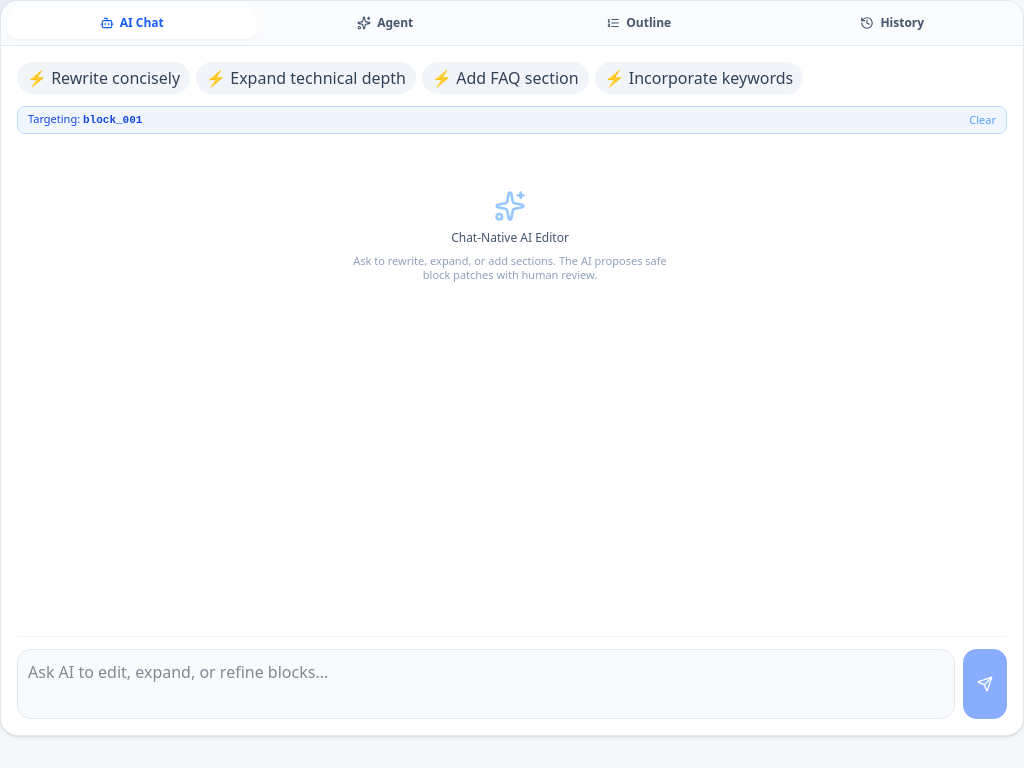
Test case: Phase 5: Chat-Native AI Content Editor › renders human-readable diff text when proposal contains structured operations and text object
The width and height of the screenshot is (1024, 768).
Type "Optimize block" into the text box with test id "chat-input" at (486, 684), box [17, 649, 955, 719]
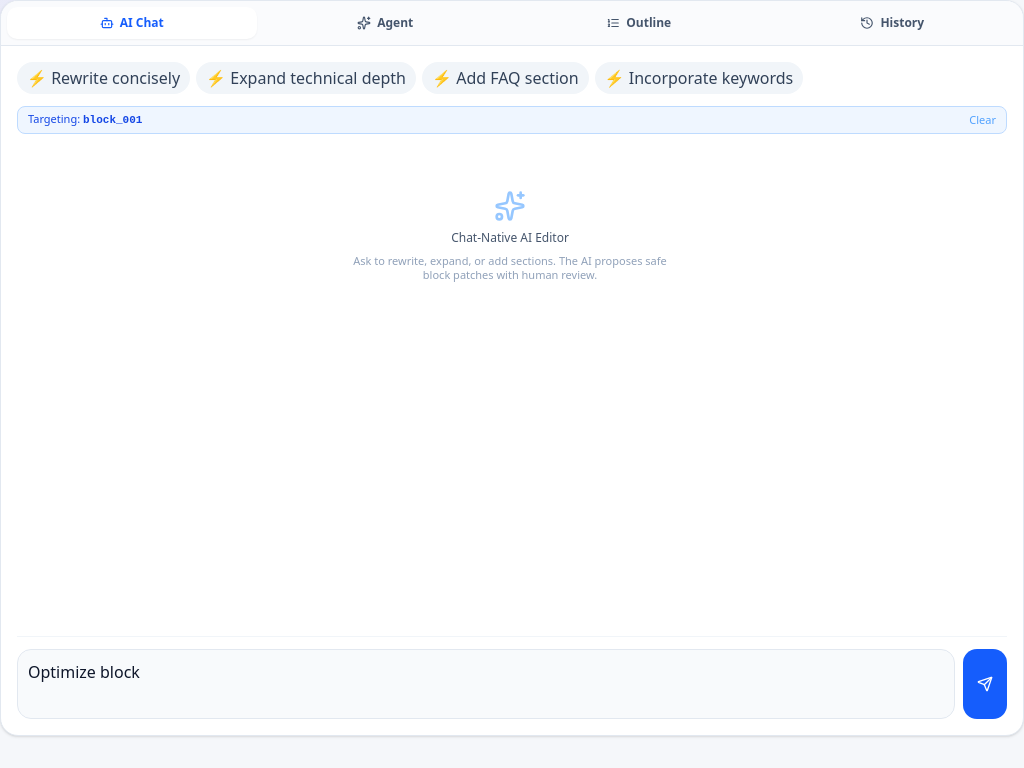
Click the button with test id "send-chat-btn" at (985, 684), box [963, 649, 1007, 719]
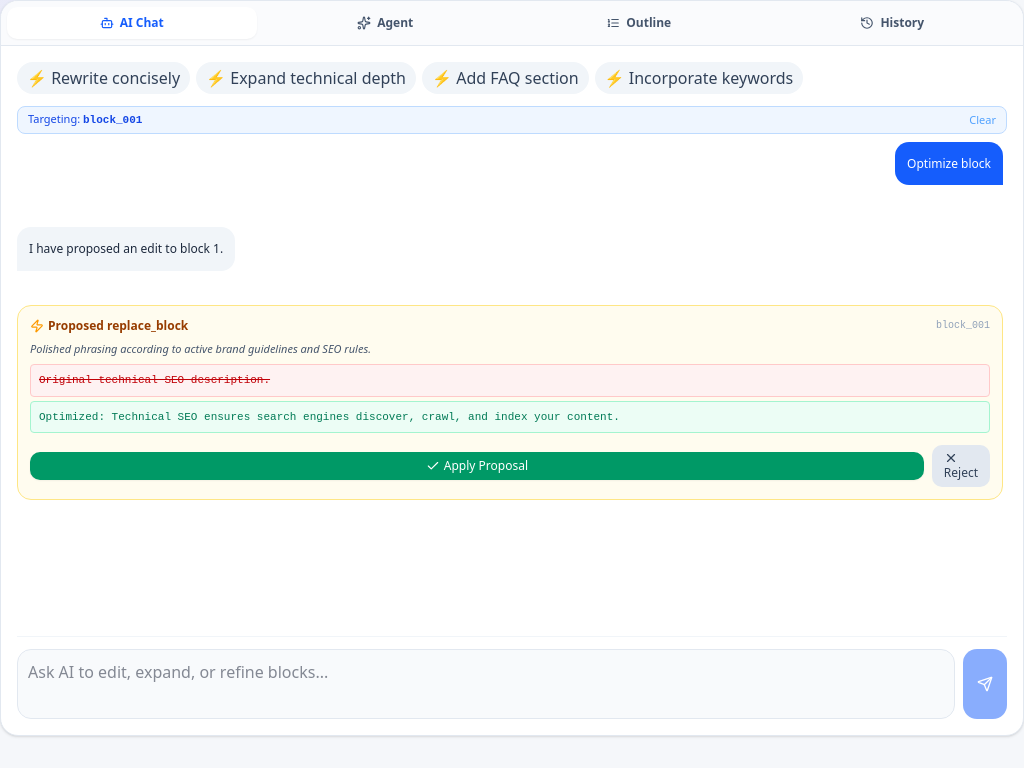
Result: the element with test id "proposal-card" is shown at [17, 304, 1003, 500]
Result: the text "Original technical SEO description." is shown at [30, 364, 990, 397]
Result: the text "Optimized: Technical SEO ensures search engines discover, crawl, and index your content." is shown at [39, 411, 620, 423]
